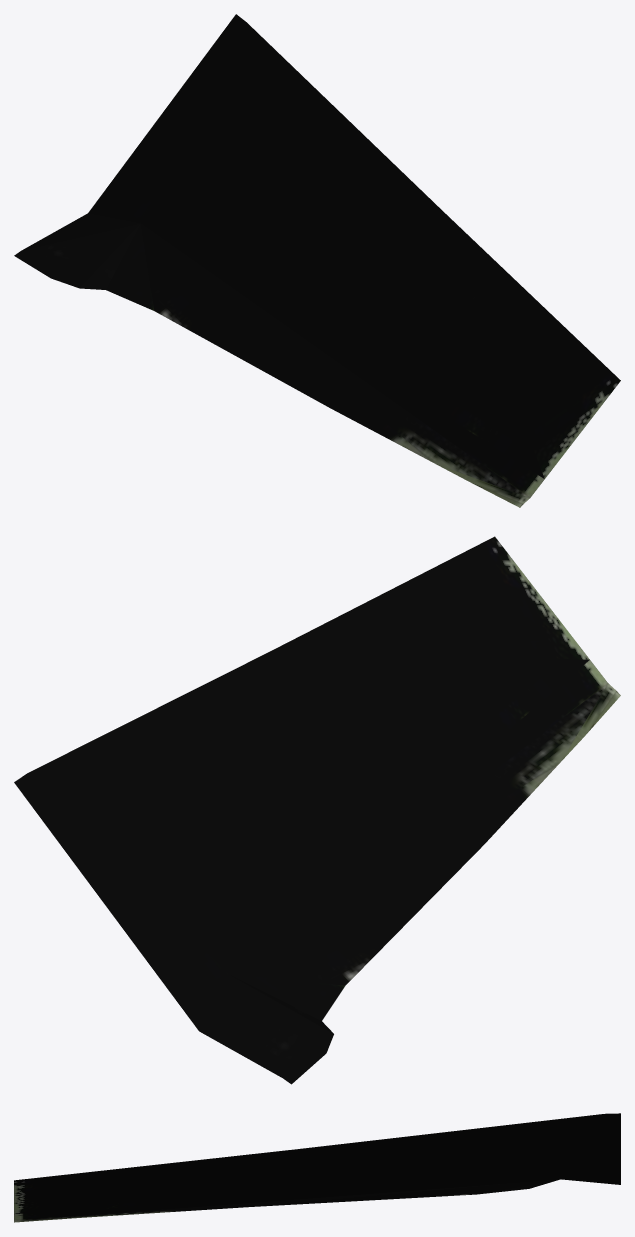
The picture shows the model from 3 angles, top to bottom: view 1: azimuth 30°, elevation 25°; view 2: azimuth 150°, elevation 25°; view 3: azimuth 270°, elevation 25°; orthographic projection. The views are drawn at different scales.
Bounding box in the file's own units: 3.93 × 3.17 × 11.8.
Materials: 1 (1 with a texture image).
